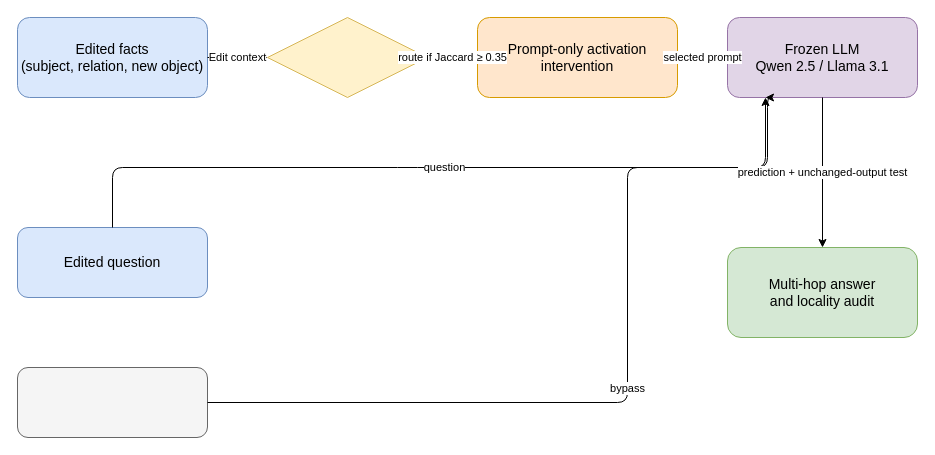
This 935x455 diagram has some shape labels left out. The shapes that lost their labels are listed below. From the top down, each one's centre as x and y in pixels, then its label:
the point at 347,57: Content-token router
the point at 112,402: Unrelated question
